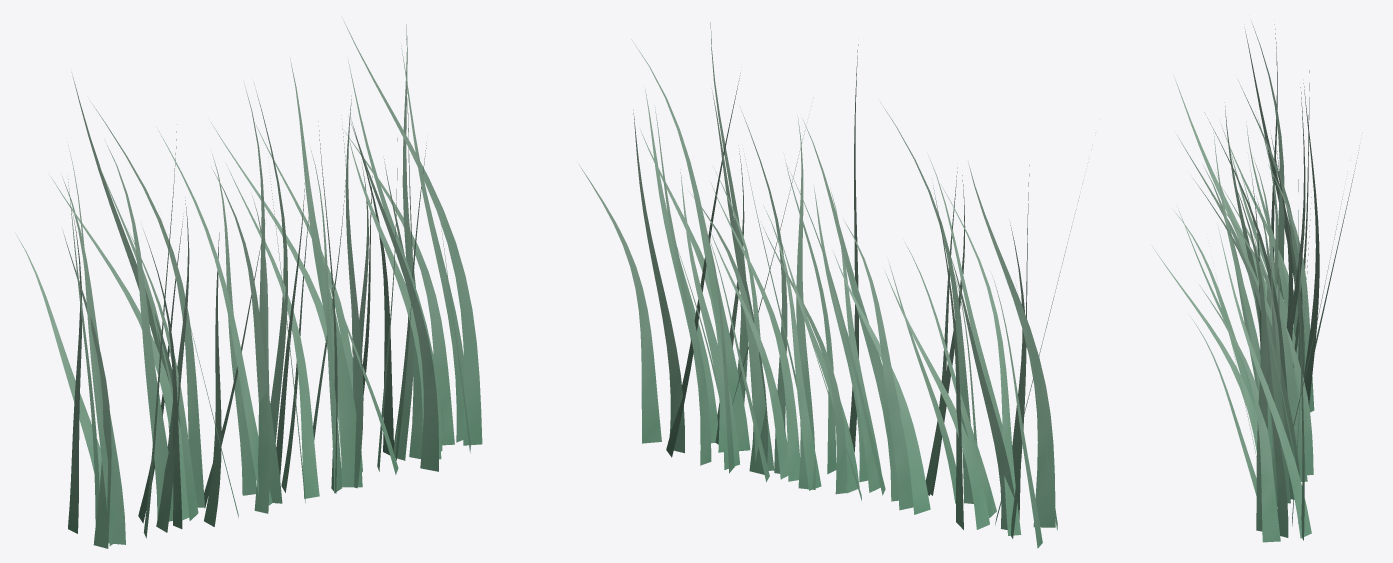
File: mesh-plant-007-dusky-eelgrass_LOD0.glb
3 views of the same model, side by side, from view 1: azimuth 30°, elevation 25°; view 2: azimuth 150°, elevation 25°; view 3: azimuth 270°, elevation 25° (orthographic). The views are drawn at different scales.
Visible parts, largest first — view 1: geometry_0; view 2: geometry_0; view 3: geometry_0.
Part boxes in pixels (bbox=[...]): geometry_0: bbox=[15, 16, 482, 548]; geometry_0: bbox=[579, 22, 1082, 548]; geometry_0: bbox=[1152, 21, 1359, 542].
Size of the model in its own units: 2.35 by 1.86 by 1.07.
